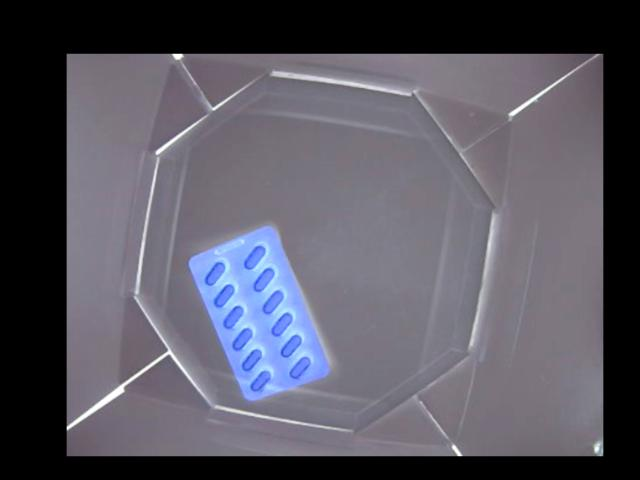Medicine: (189, 224, 331, 400)
